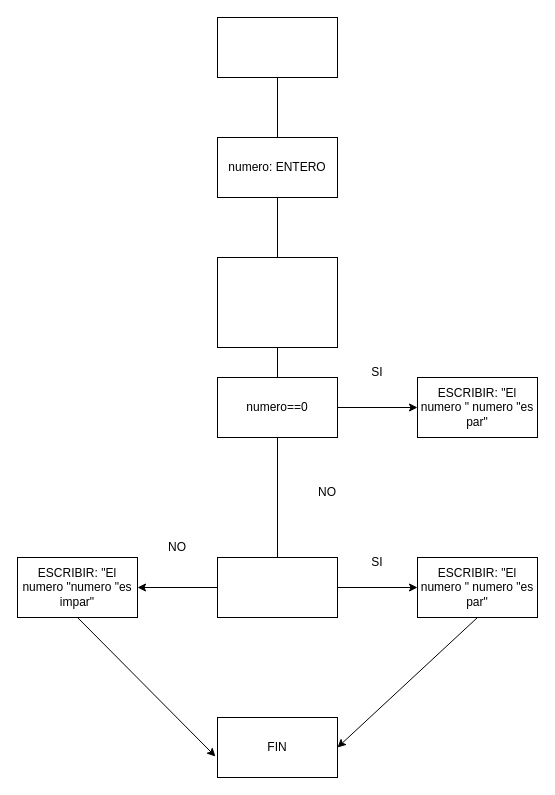
Image size: 555x795. Some labels were removed from this diagram. Each missing label, with the centre of its shape:
ESCRIBIR: "Escribe un numero y te dire si es par o impar" LEER: numero: the point at 277,302
INICIO: the point at 277,47
numero%2==0: the point at 277,587
